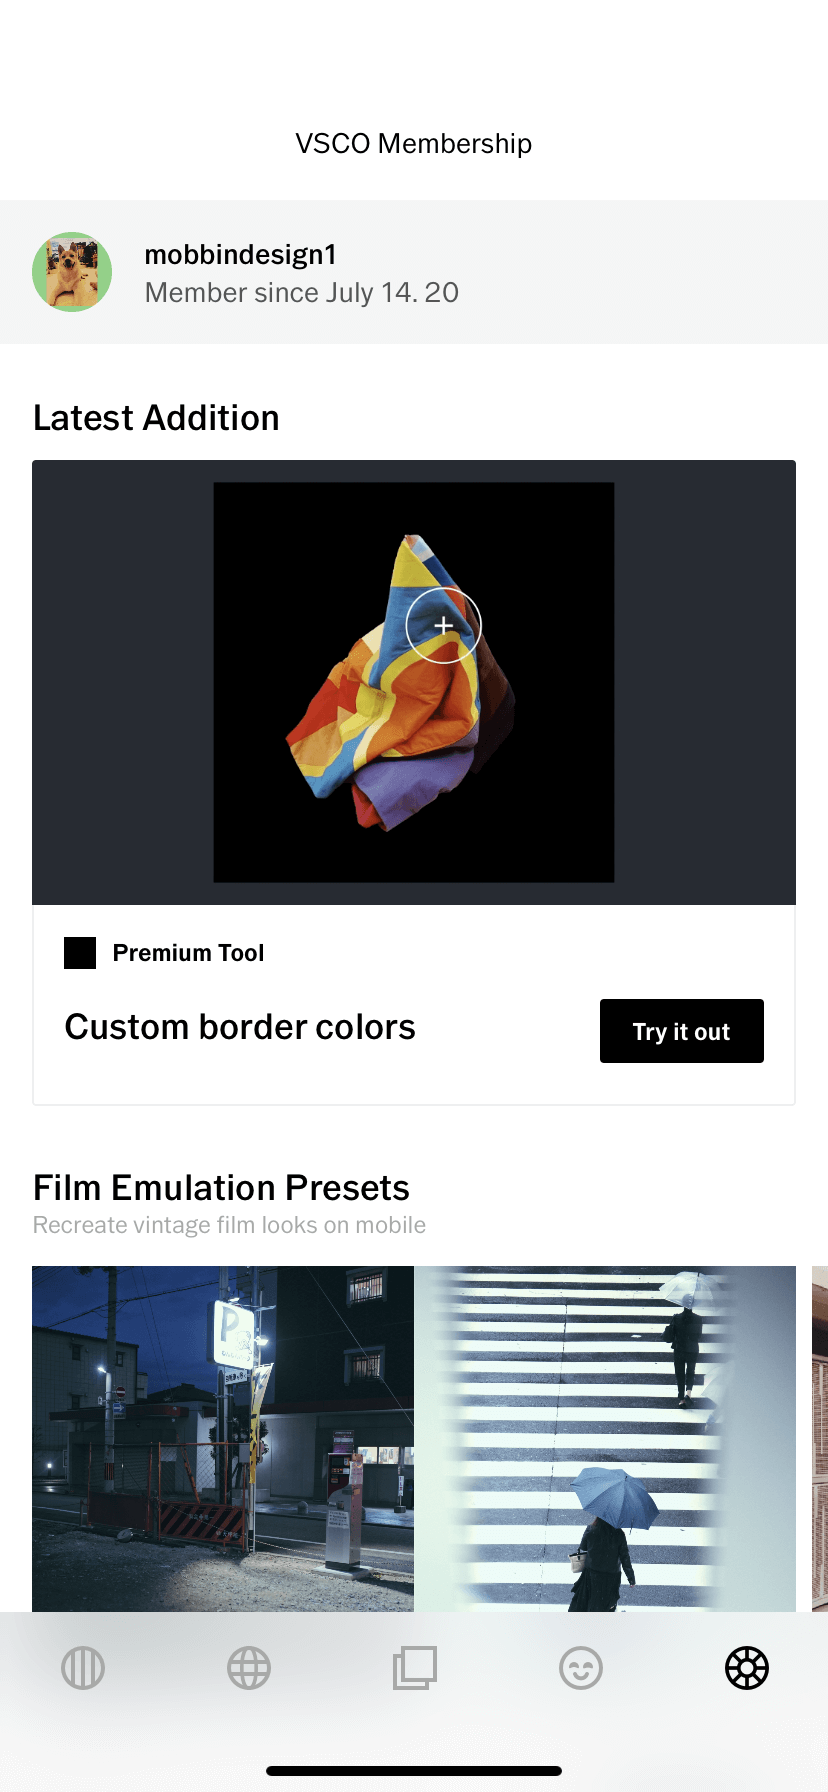Buttons: (591, 987, 771, 1075)
